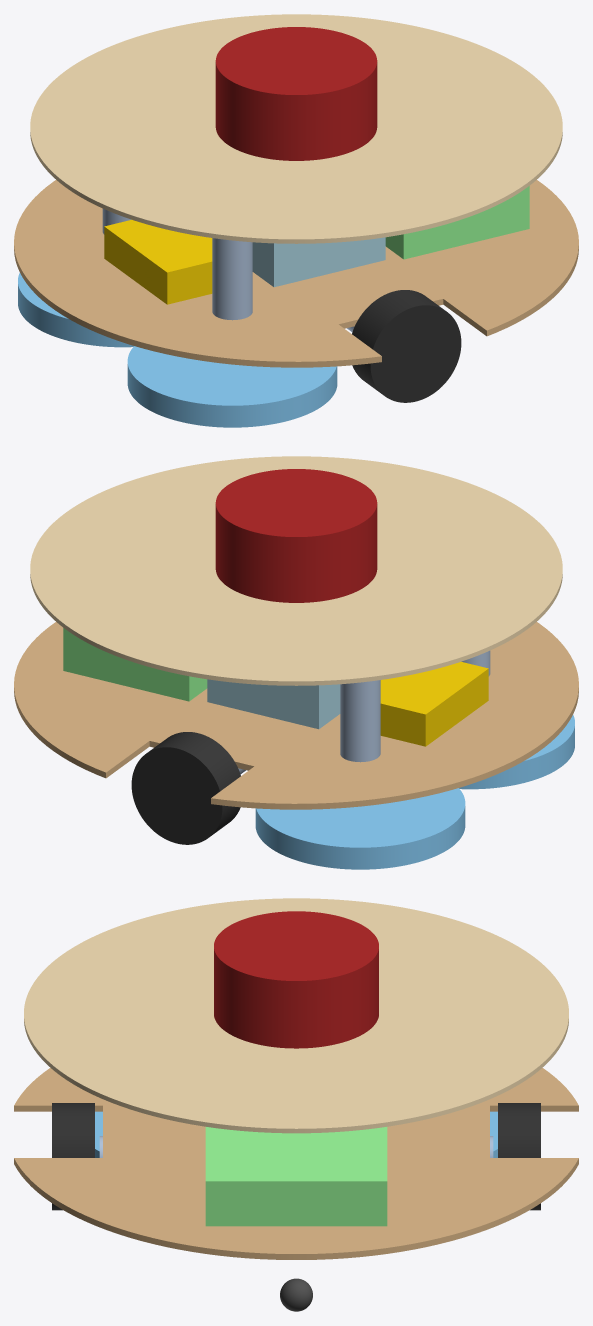
File: concept_v0.glb
The picture shows the model from 3 angles, top to bottom: view 1: azimuth 30°, elevation 25°; view 2: azimuth 150°, elevation 25°; view 3: azimuth 270°, elevation 25°; orthographic projection. The views are drawn at different scales.
Visible parts, largest first — view 1: top_deck, base_plate, lidar, pad_R, wheel_R, battery, tank, electronics, mop_motor_R, pad_L; view 2: top_deck, base_plate, lidar, pad_L, wheel_L, battery, tank, electronics, mop_motor_L, pad_R; view 3: top_deck, base_plate, lidar, electronics, wheel_L, wheel_R, caster.
Part boxes in pixels (x1=…): top_deck: x1=30, y1=14, x2=562, y2=243; base_plate: x1=14, y1=180, x2=578, y2=367; lidar: x1=215, y1=27, x2=377, y2=160; pad_R: x1=127, y1=346, x2=337, y2=427; wheel_R: x1=352, y1=290, x2=461, y2=402; battery: x1=104, y1=219, x2=212, y2=304; tank: x1=252, y1=237, x2=385, y2=287; electronics: x1=385, y1=186, x2=529, y2=259; mop_motor_R: x1=212, y1=238, x2=252, y2=320; pad_L: x1=18, y1=273, x2=133, y2=347; top_deck: x1=30, y1=456, x2=562, y2=685; base_plate: x1=14, y1=622, x2=578, y2=809; lidar: x1=215, y1=469, x2=377, y2=602; pad_L: x1=255, y1=788, x2=465, y2=869; wheel_L: x1=131, y1=732, x2=240, y2=844; battery: x1=380, y1=661, x2=488, y2=746; tank: x1=207, y1=679, x2=340, y2=729; electronics: x1=63, y1=628, x2=207, y2=701; mop_motor_L: x1=340, y1=680, x2=380, y2=762; pad_R: x1=459, y1=715, x2=574, y2=789; top_deck: x1=24, y1=898, x2=568, y2=1133; base_plate: x1=14, y1=1068, x2=578, y2=1259; lidar: x1=214, y1=911, x2=378, y2=1048; electronics: x1=205, y1=1127, x2=387, y2=1226; wheel_L: x1=498, y1=1103, x2=540, y2=1210; wheel_R: x1=52, y1=1103, x2=94, y2=1210; caster: x1=280, y1=1278, x2=312, y2=1311.
Bounding box in the file's own units: 350 × 173 × 342.
